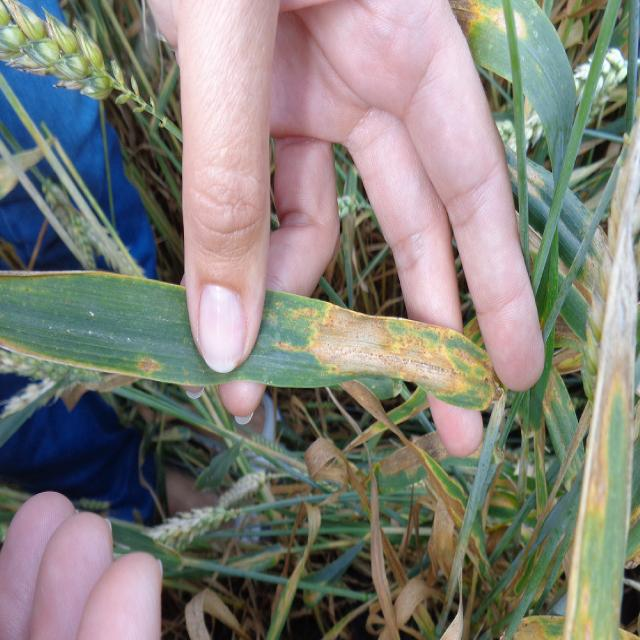wheat-septoria: (0, 271, 501, 416), (564, 322, 635, 639)
